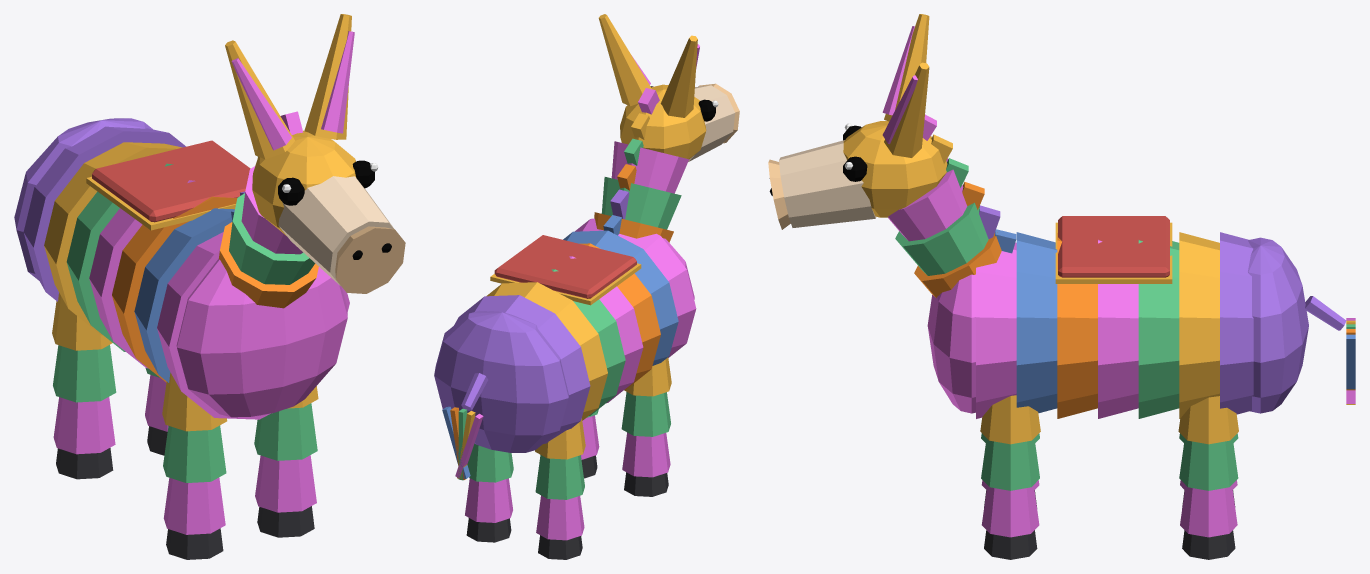
The model's file is pinata-donkey.glb.
The picture shows the model from 3 angles, left to right: view 1: azimuth 30°, elevation 25°; view 2: azimuth 150°, elevation 25°; view 3: azimuth 270°, elevation 25°; orthographic projection. The views are drawn at different scales.
Visible parts, largest first — view 1: pinata-donkey; view 2: pinata-donkey; view 3: pinata-donkey.
Boxes of the visible parts, x1,y1,x2,y2 form: pinata-donkey: (14,14,405,559); pinata-donkey: (434,14,739,559); pinata-donkey: (768,14,1355,559).
Size of the model in its own units: 0.436 by 1.25 by 1.36.
1 material, 1 textured.
